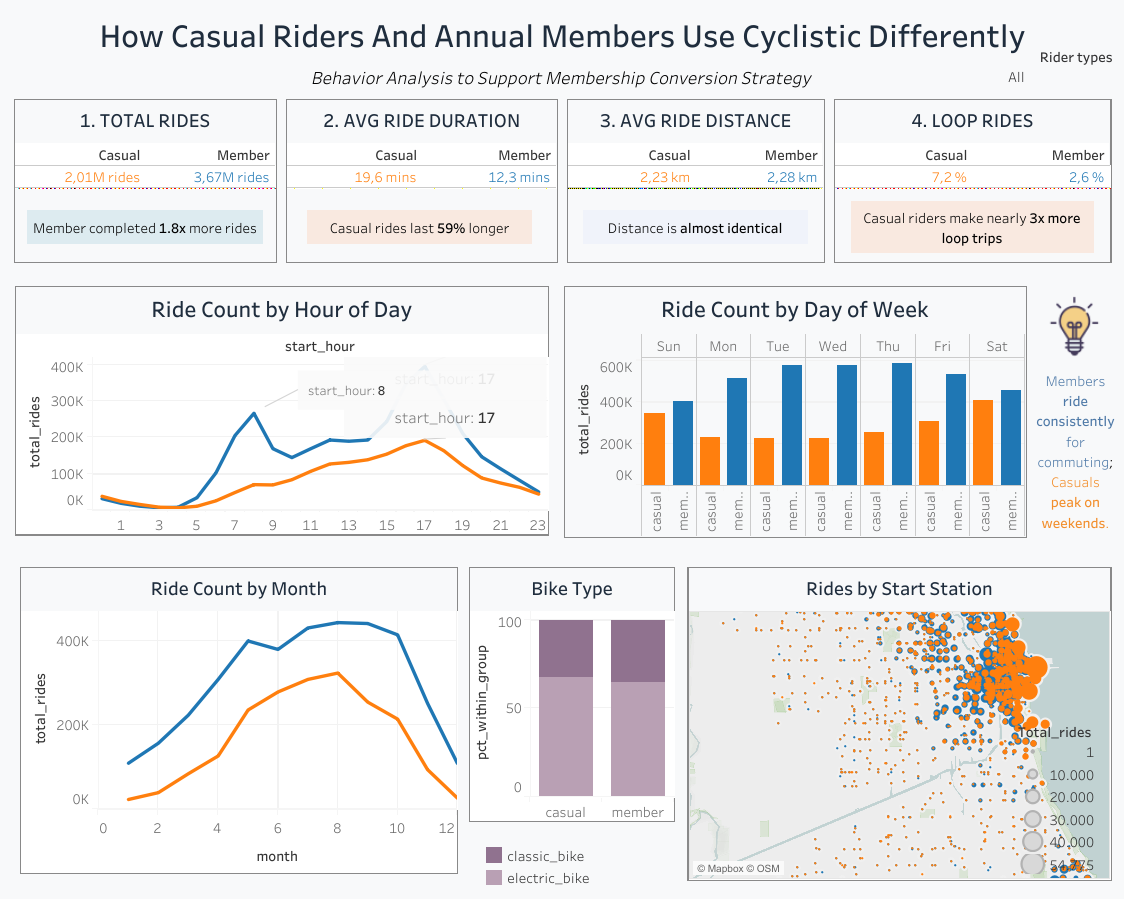

Layout of this report page (visuals, bound fields, positions):
{"tool":"tableau","page":{"name":"Dashboard 2","canvas":[1000,800],"ordinal":0},"visuals":[{"type":"title","box":[8,8,984,46]},{"type":"filter","title":"By Hour","param":"[federated.0y92tkf0cv04pg1h3aq2x0gt4xcb].[none:member_casual:nk]","box":[894,40,95,56]},{"type":"text","box":[8,54,984,30]},{"type":"worksheet","title":"TT rides","mark":"Automatic","cols":["member_casual"],"box":[8,84,242,154]},{"type":"worksheet","title":"avg duration","mark":"Automatic","cols":["member_casual"],"box":[250,84,250,154]},{"type":"worksheet","title":"Ride distance","mark":"Automatic","cols":["member_casual"],"box":[500,84,237,154]},{"type":"worksheet","title":"Loop ride","mark":"Automatic","cols":["member_casual"],"box":[737,84,255,154]},{"type":"text","box":[756,179,216,46]},{"type":"text","box":[24,187,210,30]},{"type":"text","box":[273,187,200,30]},{"type":"text","box":[518,187,200,30]},{"type":"worksheet","title":"By Hour","mark":"Line","rows":["total_rides"],"cols":["start_hour"],"box":[9,250,483,230]},{"type":"worksheet","title":"By Weekday","mark":"Bar","rows":["total_rides"],"cols":["Calculation_0013907148918787","member_casual"],"box":[497,250,420,232]},{"type":"image","param":"Image/4188188.png","box":[927,262,56,69]},{"type":"text","box":[914,295,84,211]},{"type":"worksheet","title":"By Month","mark":"Automatic","rows":["total_rides"],"cols":["month"],"box":[14,500,397,281]},{"type":"worksheet","title":"Bike Type","mark":"Automatic","rows":["pct_within_group"],"cols":["member_casual"],"box":[413,500,191,235]},{"type":"worksheet","title":"Geography","mark":"Circle","rows":["lat"],"cols":["lng"],"box":[607,500,385,287]},{"type":"legend","title":"Bike Type","param":"[federated.07q1w3b1mhn39c16t88r108rb3td].[none:rideable_type:nk]","box":[429,750,183,40]}]}

Visuals, with their boxes in screenshot pixels (x1, y1, x2, y2), scaled from the page's 1000x800 canvas onto the 1124x899 screenshot:
title: Rect(9, 9, 1115, 61)
"By Hour" filter: Rect(1005, 45, 1112, 108)
text: Rect(9, 61, 1115, 94)
"TT rides" worksheet: Rect(9, 94, 281, 267)
"avg duration" worksheet: Rect(281, 94, 562, 267)
"Ride distance" worksheet: Rect(562, 94, 828, 267)
"Loop ride" worksheet: Rect(828, 94, 1115, 267)
text: Rect(850, 201, 1093, 253)
text: Rect(27, 210, 263, 244)
text: Rect(307, 210, 532, 244)
text: Rect(582, 210, 807, 244)
"By Hour" worksheet (Line marks): Rect(10, 281, 553, 539)
"By Weekday" worksheet (Bar marks): Rect(559, 281, 1031, 542)
image: Rect(1042, 294, 1105, 372)
text: Rect(1027, 332, 1122, 569)
"By Month" worksheet: Rect(16, 562, 462, 878)
"Bike Type" worksheet: Rect(464, 562, 679, 826)
"Geography" worksheet (Circle marks): Rect(682, 562, 1115, 884)
"Bike Type" legend: Rect(482, 843, 688, 888)
